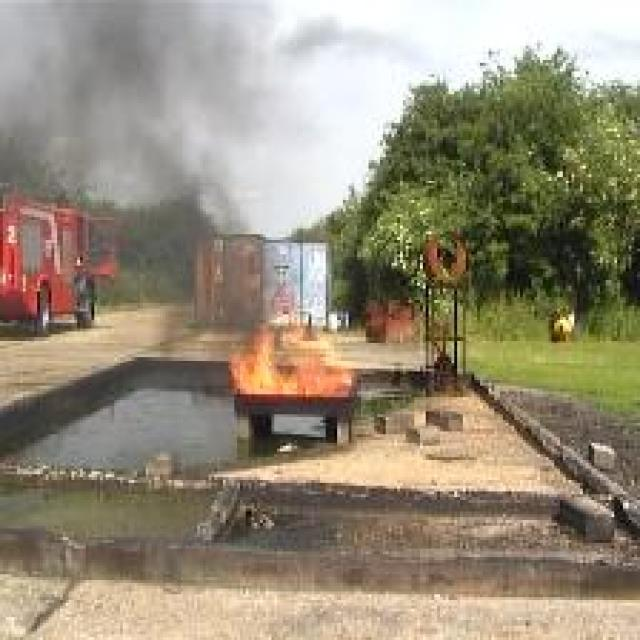Fire: (232, 308, 354, 398)
